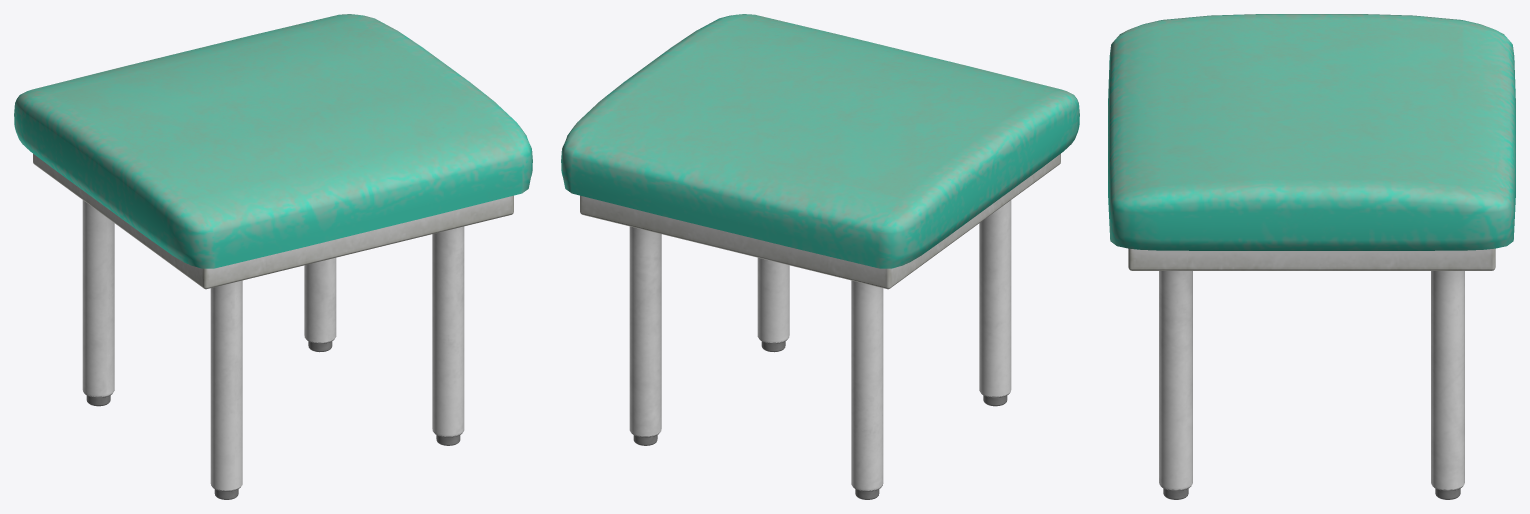
Rendered from Chair_B.fbx.
3 views of the same model, side by side, from view 1: azimuth 30°, elevation 25°; view 2: azimuth 150°, elevation 25°; view 3: azimuth 270°, elevation 25° (orthographic). The views are drawn at different scales.
Visible parts, largest first — view 1: Chair_B_01; view 2: Chair_B_01; view 3: Chair_B_01.
Part boxes in pixels (<box>): Chair_B_01: <box>14,14,532,499</box>; Chair_B_01: <box>561,14,1079,499</box>; Chair_B_01: <box>1108,14,1515,499</box>.
Size of the model in its own units: 64 by 54.93 by 60.
